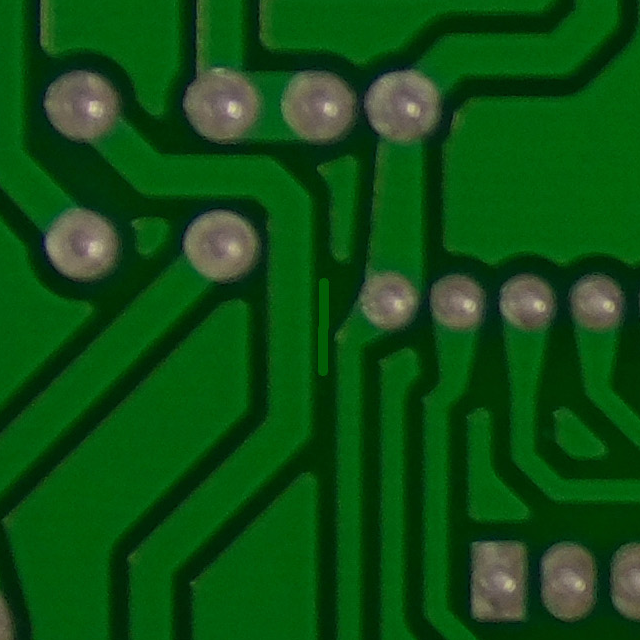spurious_copper: (296, 254, 344, 387)
